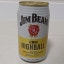paper: (16, 0, 49, 64)
